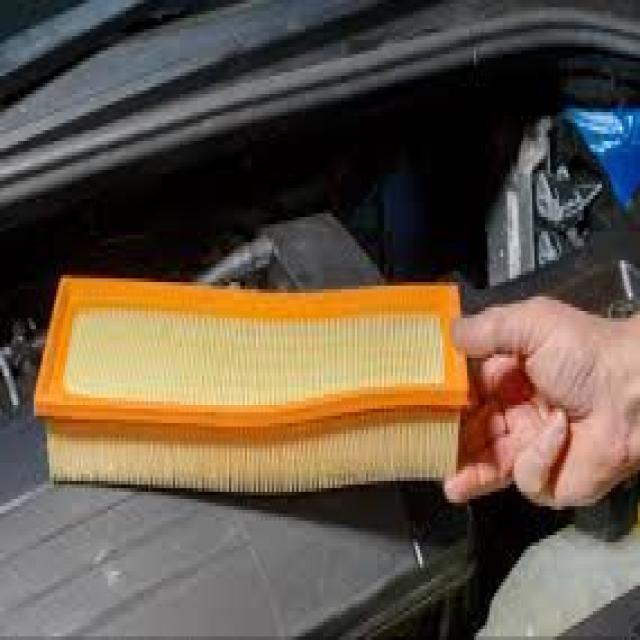air_filter: (42, 278, 461, 484)
